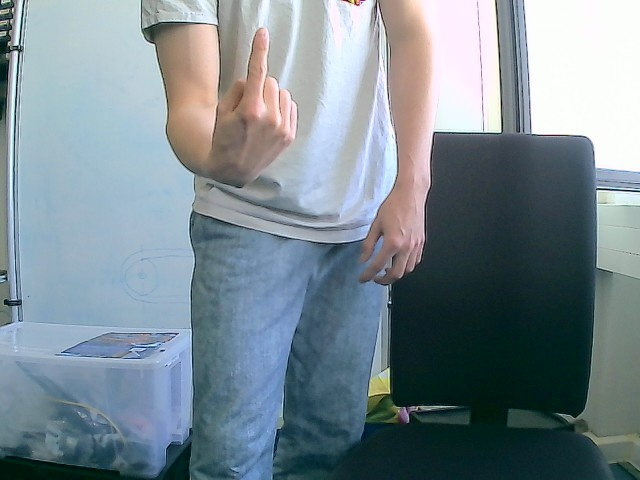6: (207, 27, 299, 188)
no_gesture: (360, 180, 431, 290)
